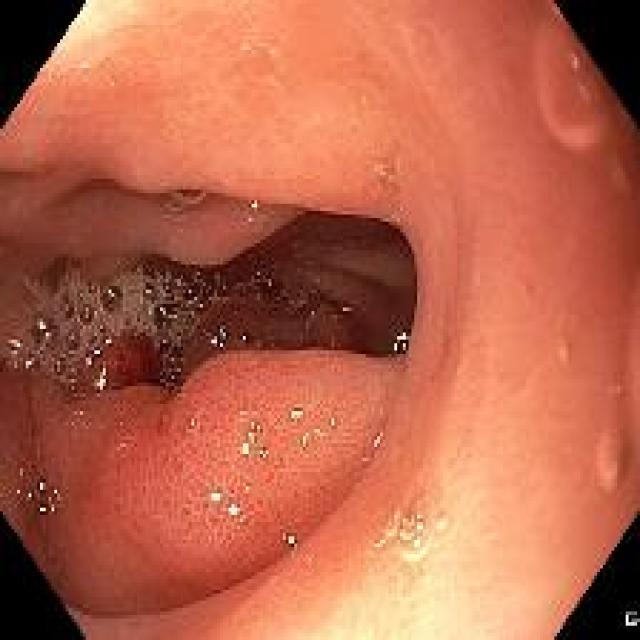bubbles: (4, 255, 283, 389), (535, 26, 609, 156), (593, 425, 634, 496), (384, 487, 427, 552), (158, 183, 211, 220), (244, 411, 267, 444), (435, 505, 453, 534), (374, 164, 395, 186), (267, 75, 280, 90), (241, 40, 252, 55), (80, 61, 91, 72)
saturation: (309, 556, 484, 639), (54, 3, 123, 43)
specularity: (12, 469, 57, 512), (84, 334, 118, 368), (389, 327, 412, 362), (298, 429, 327, 452), (279, 532, 303, 558), (204, 323, 228, 347), (223, 500, 245, 526), (245, 197, 262, 228), (95, 364, 109, 398), (36, 317, 53, 339), (206, 489, 222, 509), (288, 408, 307, 421), (237, 443, 254, 456), (5, 336, 21, 347), (340, 303, 352, 314), (24, 356, 33, 369), (157, 306, 167, 316), (106, 288, 115, 299), (82, 302, 89, 316), (11, 359, 19, 370), (188, 416, 194, 426), (304, 321, 311, 329), (144, 289, 151, 297), (220, 282, 226, 290), (241, 335, 247, 343), (179, 276, 185, 283)
